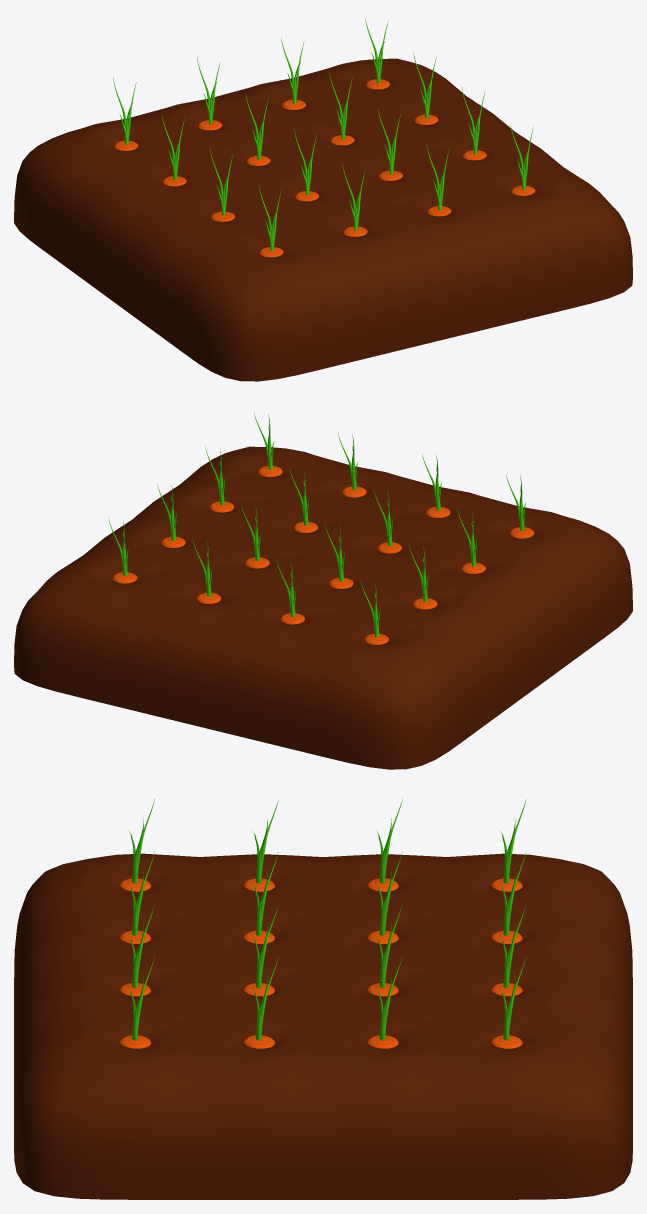
The model's file is Carrot Bed3.fbx.
The picture shows the model from 3 angles, top to bottom: view 1: azimuth 30°, elevation 25°; view 2: azimuth 150°, elevation 25°; view 3: azimuth 270°, elevation 25°; orthographic projection. The views are drawn at different scales.
Visible parts, largest first — view 1: Plane; view 2: Plane; view 3: Plane.
Part boxes in pixels (box(x1,y1,x2,y2)): Plane: box(14, 58, 632, 381); Plane: box(14, 446, 632, 769); Plane: box(14, 853, 632, 1199).
Size of the model in its own units: 2000 by 709 by 2000.
